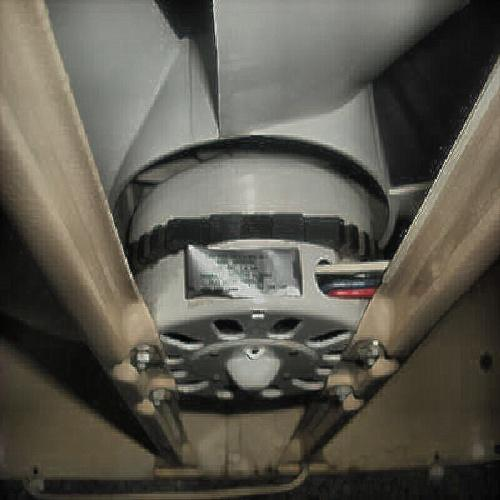fan: (46, 17, 460, 473)
